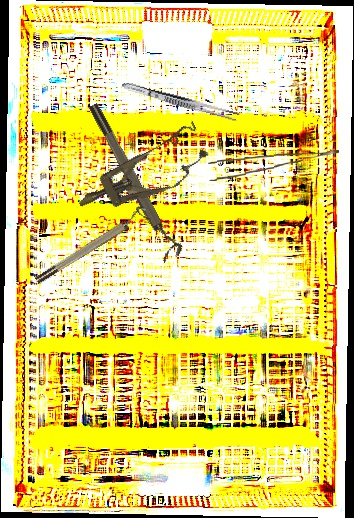Dressing Forceps: (120, 79, 241, 123)
Fixation Ring: (85, 98, 186, 263), (30, 203, 152, 287)
Speculum: (67, 119, 216, 229)
Tissue Forceps: (208, 150, 340, 181)
